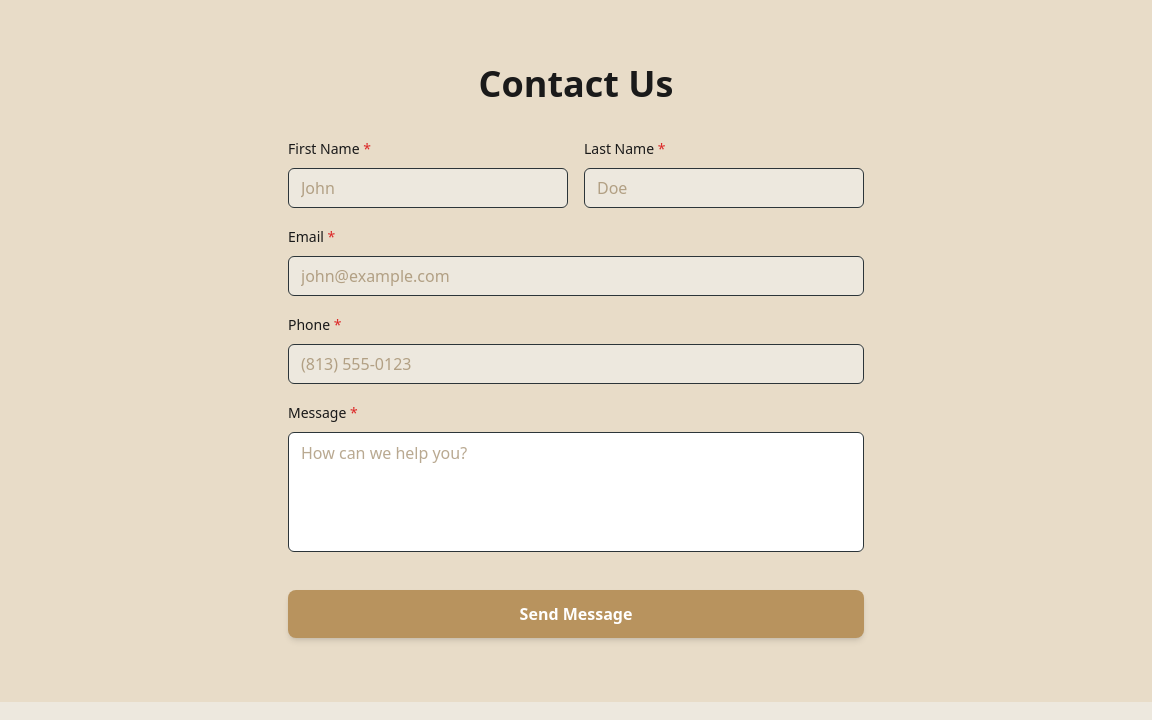
Scenario: ContactForm Component › Validation Tests › shows validation error for invalid email format
Type "invalid-email" into the field labelled "Email *".
click(576, 276); type("invalid-email")  # box [288,256,864,296]
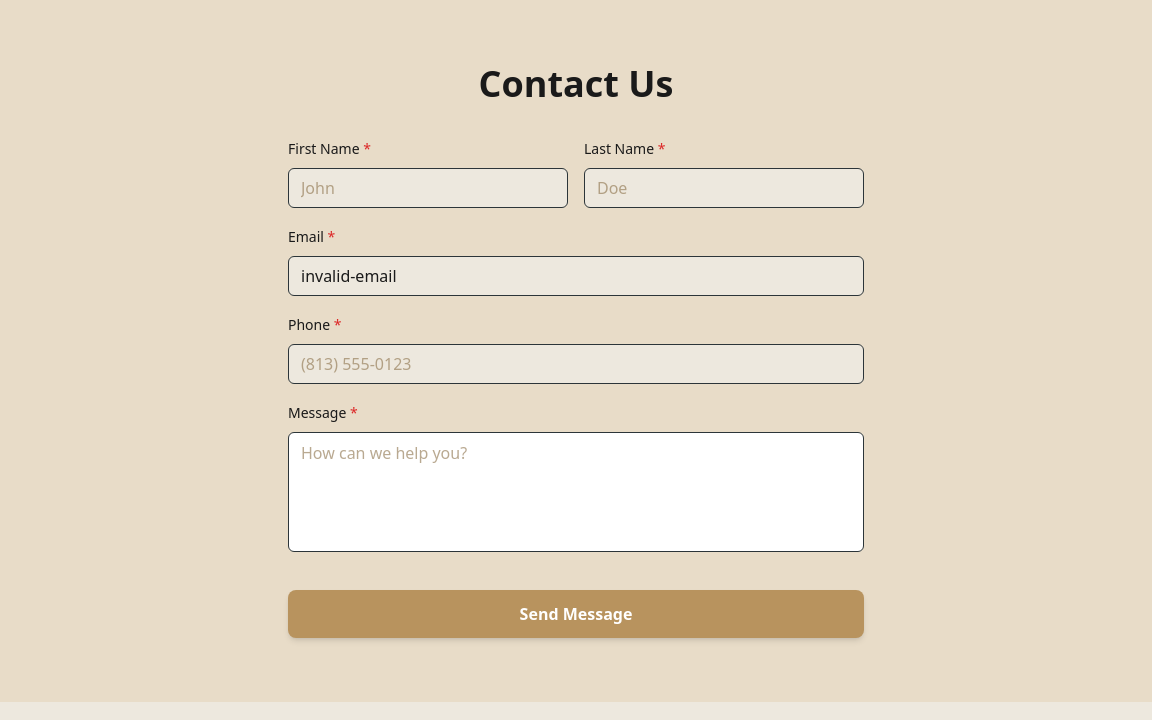
Leave the field labelled "Email *", box [288,256,864,296]
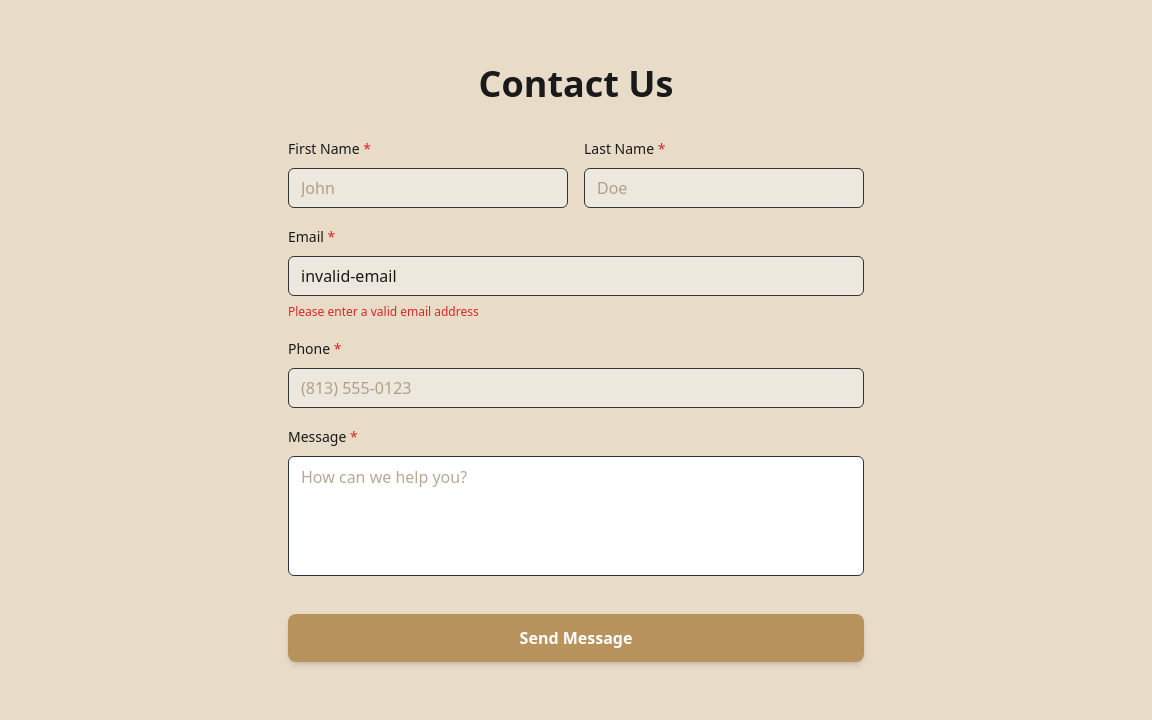
expect the text "Please enter a valid email address" is shown: met, box [288,303,479,320]
